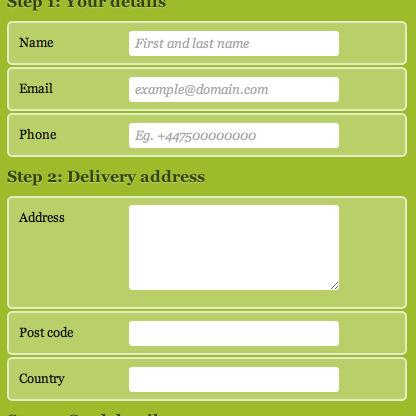field: (123, 202, 342, 294), (125, 363, 341, 396), (124, 317, 342, 349), (126, 27, 340, 59), (124, 74, 343, 105), (125, 121, 347, 151)
field_with_label: (19, 200, 344, 295), (20, 315, 344, 352), (18, 361, 343, 397), (19, 25, 343, 60), (16, 72, 345, 106), (19, 119, 350, 152)
